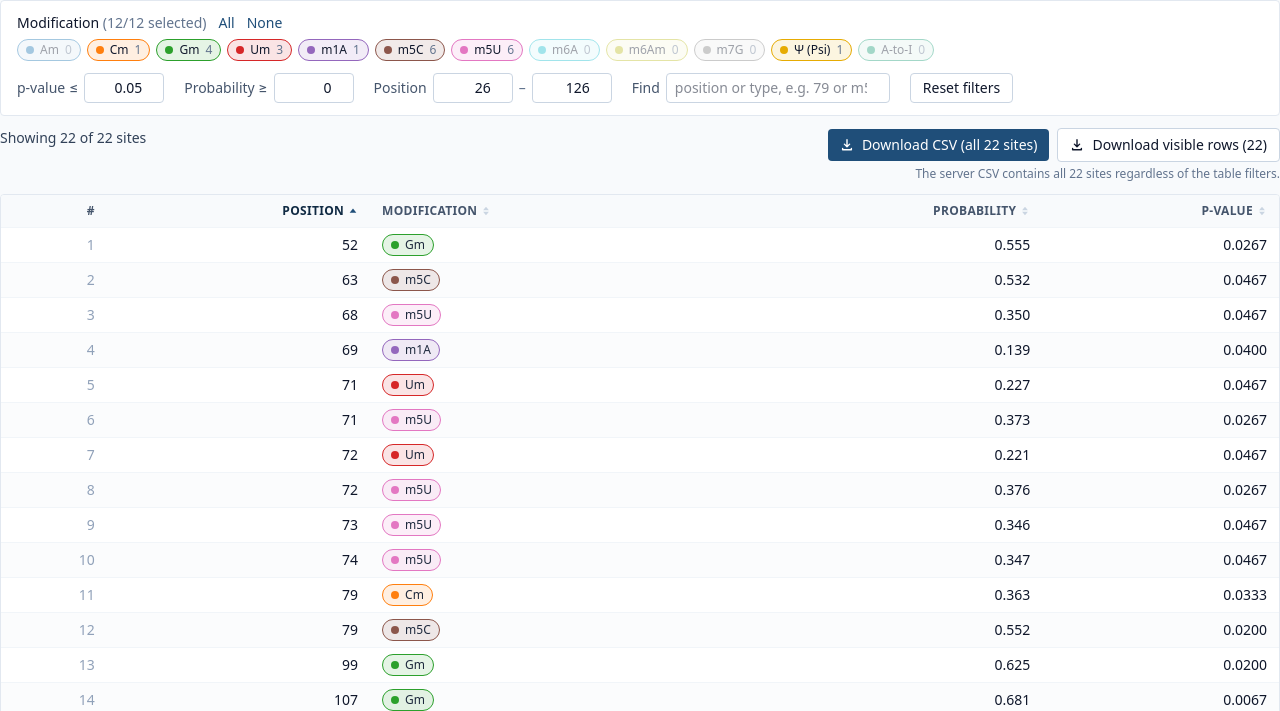
ResultsTable (golden fixture) › shows a readable error when the server CSV fails
Step 1. Click the button with test id "download-csv" → coordinates (939, 145), box x1=828 y1=129 x2=1050 y2=161
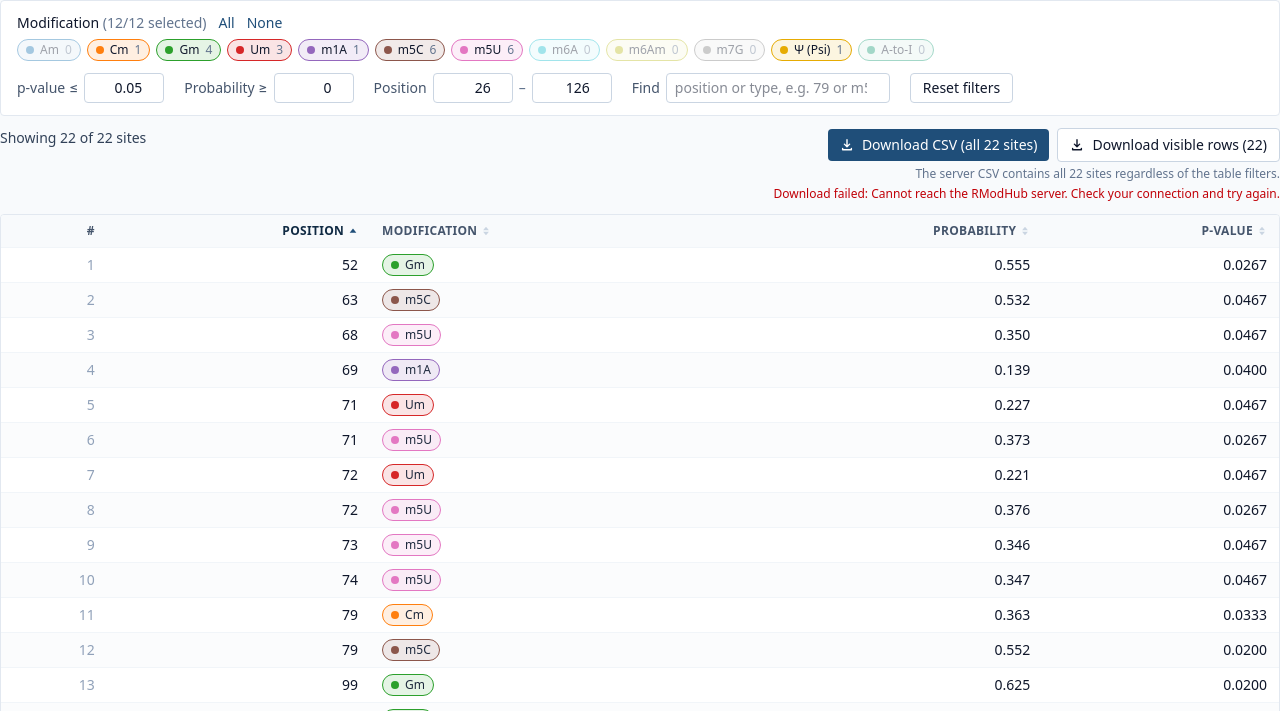
Now the message with test id "download-csv-error" shows "Cannot reach the RModHub server", box x1=871 y1=185 x2=1279 y2=202
